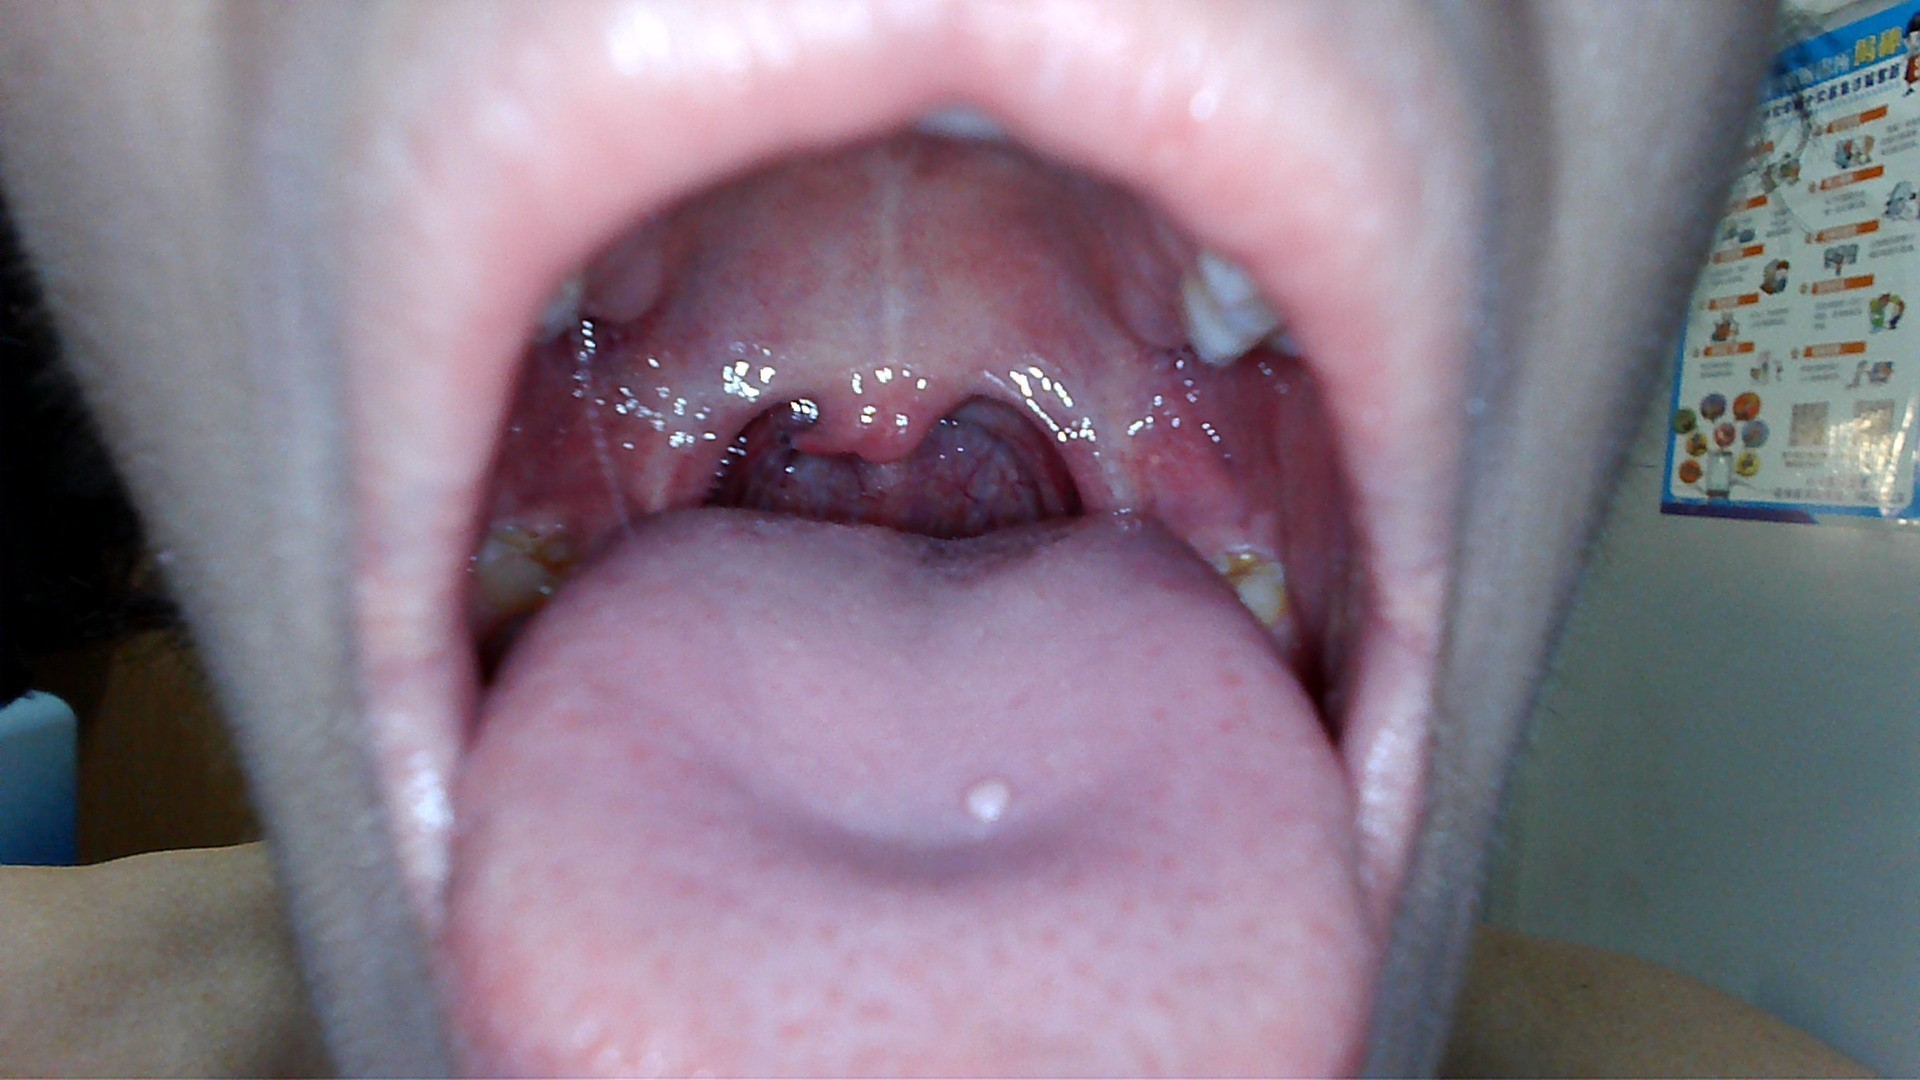throat: (1002, 332, 1122, 504), (642, 360, 778, 500)
